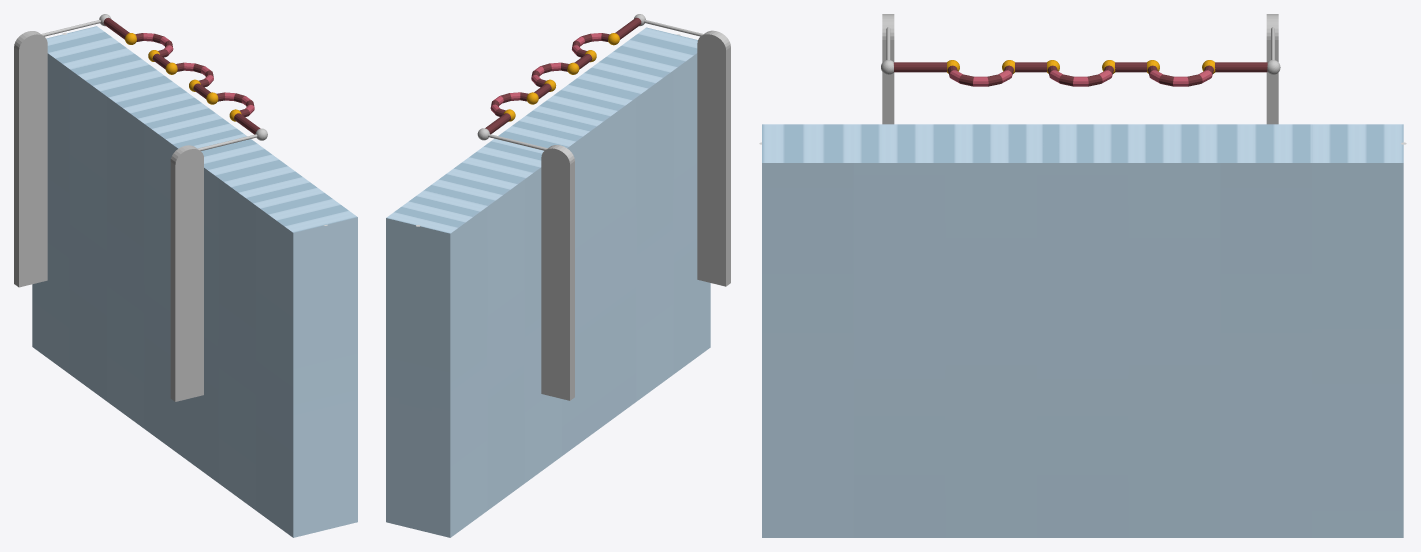
The model's file is 1_hit_rotate_1.fbx.
3 renders of one model, left to right at view 1: azimuth 30°, elevation 25°; view 2: azimuth 150°, elevation 25°; view 3: azimuth 270°, elevation 25°, orthographic. The views are drawn at different scales.
Visible parts, largest first — view 1: road.008, hit_s, hit_rotate; view 2: road.008, hit_s, hit_rotate; view 3: road.008, hit_rotate, hit_s.
Boxes of the visible parts, box(x1,y1,x2,y2) form: road.008: box(32, 26, 357, 537); hit_s: box(14, 14, 267, 401); hit_rotate: box(103, 17, 260, 134); road.008: box(386, 27, 710, 537); hit_s: box(477, 14, 730, 400); hit_rotate: box(485, 17, 641, 134); road.008: box(762, 124, 1403, 537); hit_rotate: box(893, 60, 1267, 86); hit_s: box(881, 14, 1280, 124).
Bounding box in the file's own units: 2512 × 6583 × 8569.
